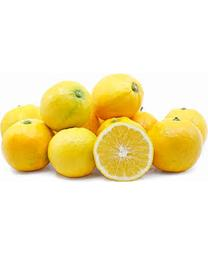lemon: (91, 122, 155, 181), (152, 118, 204, 172), (3, 118, 55, 169), (41, 81, 95, 127), (48, 128, 98, 177), (92, 75, 142, 119)
